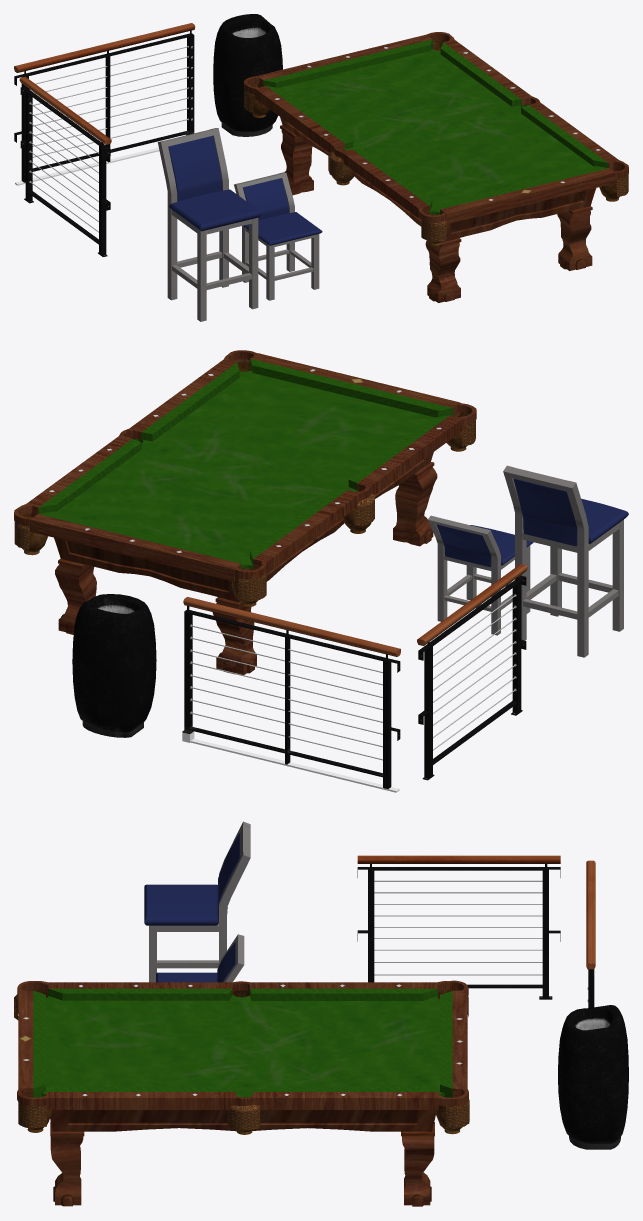
File: jayden_miles_individual_modular_props.glb
The picture shows the model from 3 angles, top to bottom: view 1: azimuth 30°, elevation 25°; view 2: azimuth 150°, elevation 25°; view 3: azimuth 270°, elevation 25°; orthographic projection. The views are drawn at different scales.
Visible parts, largest first — view 1: PoolTable, LargeChair, RailLong, Trashbin, SmallChair, RailNormal; view 2: PoolTable, LargeChair, RailLong, Trashbin, RailNormal, SmallChair; view 3: PoolTable, Trashbin, RailNormal, LargeChair, SmallChair, RailLong.
Part boxes in pixels (x1=…): PoolTable: x1=244, y1=32, x2=628, y2=302; LargeChair: x1=157, y1=128, x2=262, y2=321; RailLong: x1=14, y1=23, x2=195, y2=185; Trashbin: x1=213, y1=14, x2=282, y2=136; SmallChair: x1=234, y1=172, x2=322, y2=300; RailNormal: x1=19, y1=77, x2=111, y2=256; PoolTable: x1=14, y1=350, x2=476, y2=674; LargeChair: x1=503, y1=465, x2=628, y2=657; RailLong: x1=182, y1=597, x2=400, y2=792; Trashbin: x1=72, y1=594, x2=156, y2=737; RailNormal: x1=417, y1=564, x2=527, y2=780; SmallChair: x1=427, y1=515, x2=533, y2=635; PoolTable: x1=14, y1=980, x2=469, y2=1206; Trashbin: x1=558, y1=1005, x2=628, y2=1149; RailNormal: x1=357, y1=855, x2=560, y2=999; LargeChair: x1=144, y1=821, x2=250, y2=982; SmallChair: x1=156, y1=934, x2=244, y2=982; RailLong: x1=586, y1=860, x2=595, y2=1007.
Size of the model in its own units: 0.2162 by 0.0804 by 0.2491.
Materials: 6 (6 with a texture image).
